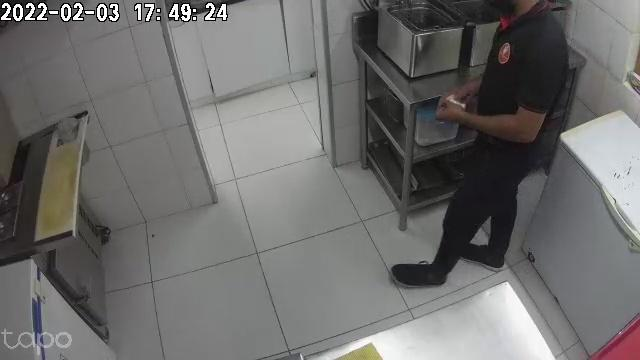no_gloves: (437, 98, 474, 127)
